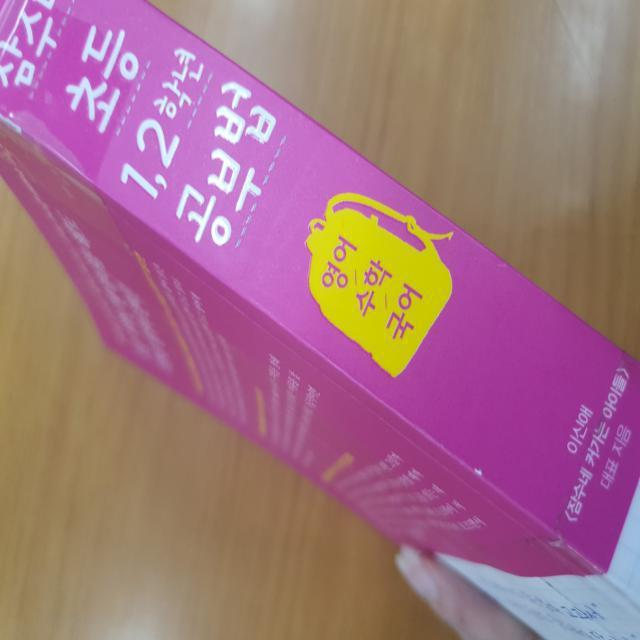Wornout: (464, 443, 488, 483)
